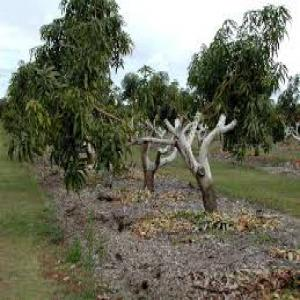Tree: (2, 3, 291, 220)
